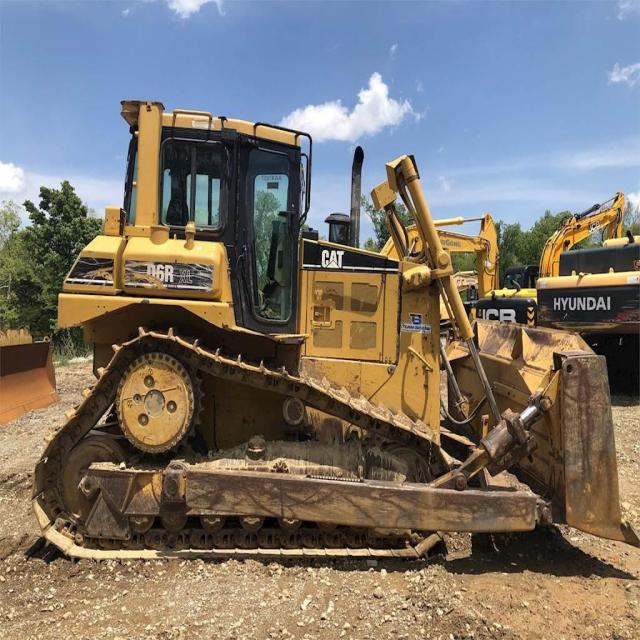buldozerpayloadergrader: (27, 56, 628, 579)
